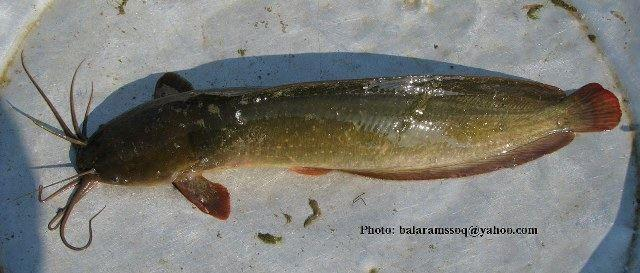Catfish: (14, 47, 621, 256)
